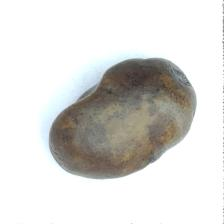NG: (161, 57, 196, 98)
